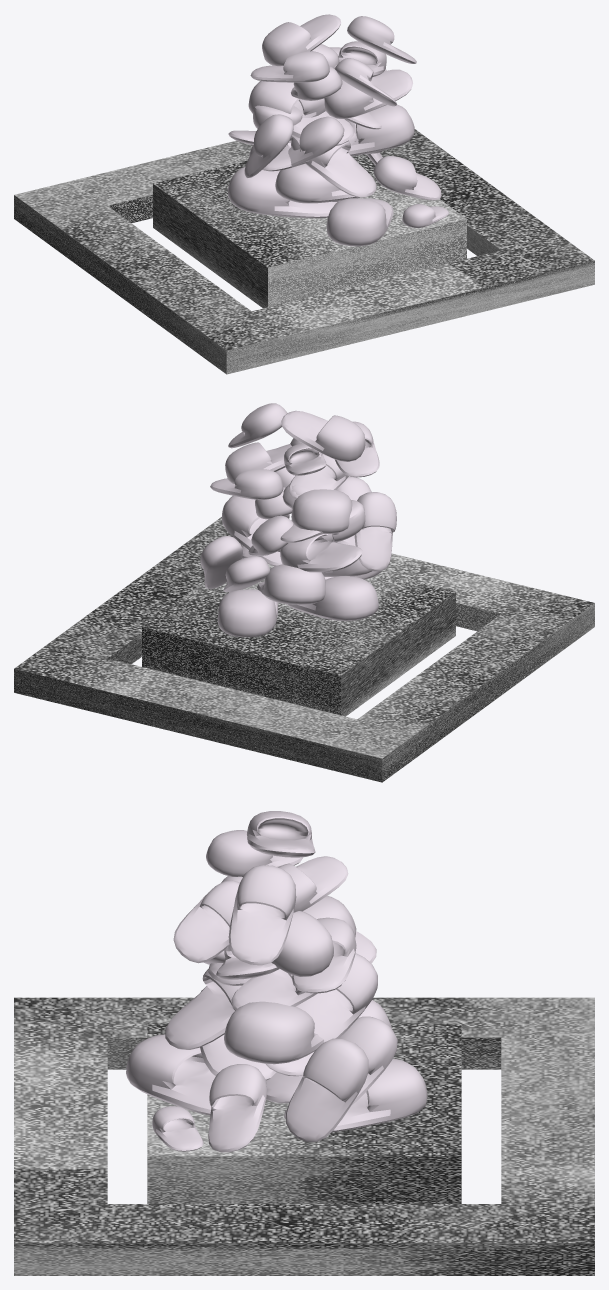
Rendered from meme2.glb.
3 views of the same model, one above another, from view 1: azimuth 30°, elevation 25°; view 2: azimuth 150°, elevation 25°; view 3: azimuth 270°, elevation 25° (orthographic). The views are drawn at different scales.
Parts seen in each view (by area): view 1: Cube.001, Plane.069, Cube.008; view 2: Cube.001, Plane.069, Cube.008; view 3: Cube.001, Plane.069, Cube.008.
Part boxes in pixels (x1,y1,x2,y2): Cube.001: [14, 129, 594, 374]; Plane.069: [228, 14, 448, 246]; Cube.008: [153, 154, 466, 308]; Cube.001: [14, 517, 594, 782]; Plane.069: [200, 403, 396, 637]; Cube.008: [142, 564, 455, 716]; Cube.001: [14, 997, 594, 1275]; Plane.069: [126, 811, 427, 1152]; Cube.008: [147, 1023, 461, 1203].
Size of the model in its own units: 0.7549 by 0.4664 by 0.7549.
Materials: 2 (1 with a texture image).
